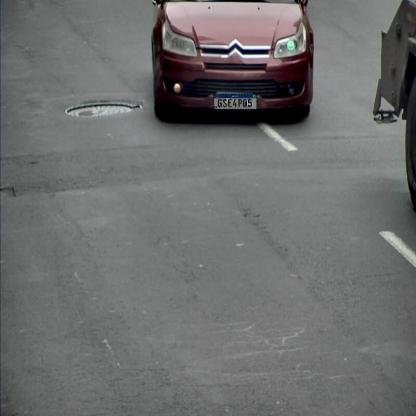PlacaM: (214, 93, 258, 110)
